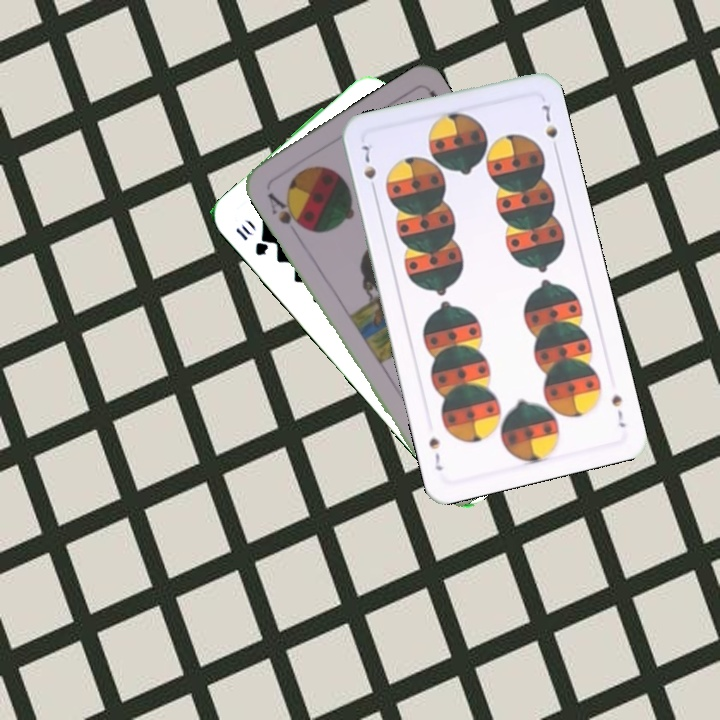G10: (231, 219, 272, 258)
S7: (358, 141, 379, 196), (607, 390, 628, 430)
SA: (263, 188, 308, 232)
